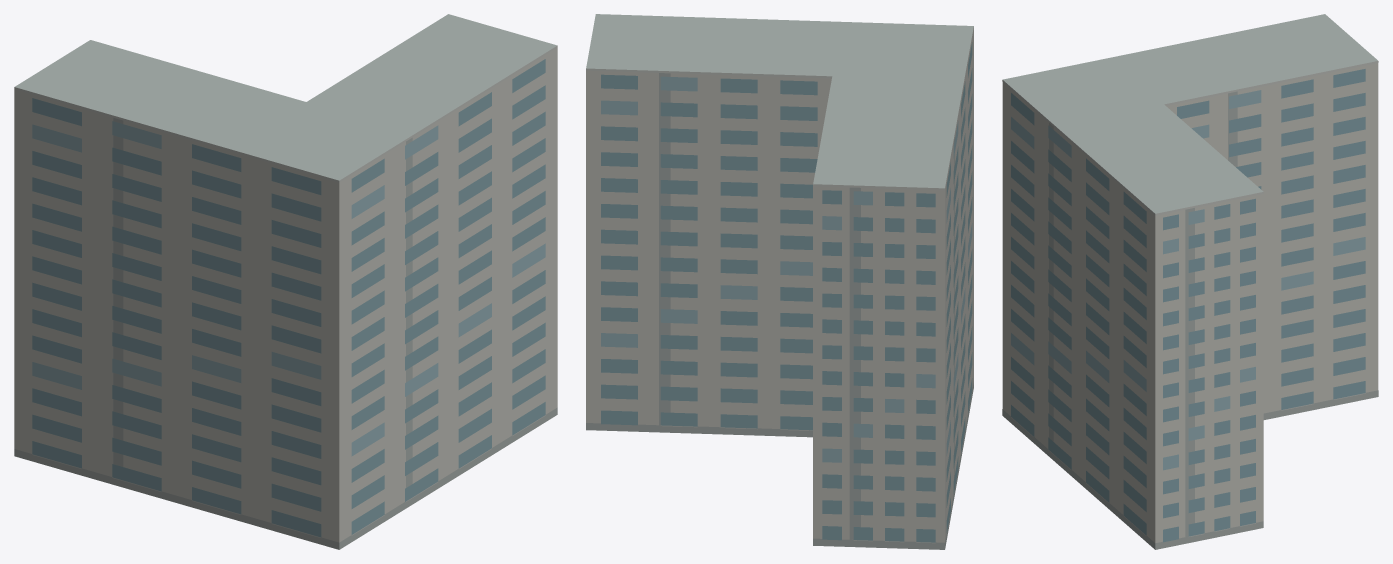
Rendered from residential-1693e2bd-a937-4aeb-ba5c-a563f1183851.glb.
3 views of the same model, side by side, from view 1: azimuth 30°, elevation 25°; view 2: azimuth 150°, elevation 25°; view 3: azimuth 270°, elevation 25° (orthographic). The views are drawn at different scales.
Visible parts, largest first — view 1: residential-1693e2bd-a937-4aeb-ba5c-a563f1183851.tmp; view 2: residential-1693e2bd-a937-4aeb-ba5c-a563f1183851.tmp; view 3: residential-1693e2bd-a937-4aeb-ba5c-a563f1183851.tmp.
Boxes of the visible parts, x1=… form: residential-1693e2bd-a937-4aeb-ba5c-a563f1183851.tmp: x1=14, y1=14, x2=557, y2=549; residential-1693e2bd-a937-4aeb-ba5c-a563f1183851.tmp: x1=586, y1=14, x2=973, y2=549; residential-1693e2bd-a937-4aeb-ba5c-a563f1183851.tmp: x1=1002, y1=14, x2=1378, y2=549.
Bounding box in the file's own units: 52.29 × 41 × 41.58.
